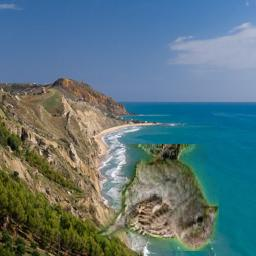Sparrow: (97, 145, 219, 252)
